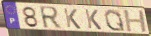8: (21, 6, 39, 28)
H: (123, 10, 149, 33)
K: (83, 8, 103, 31), (62, 7, 82, 30)
Q: (104, 9, 127, 33)
R: (38, 5, 63, 30)
